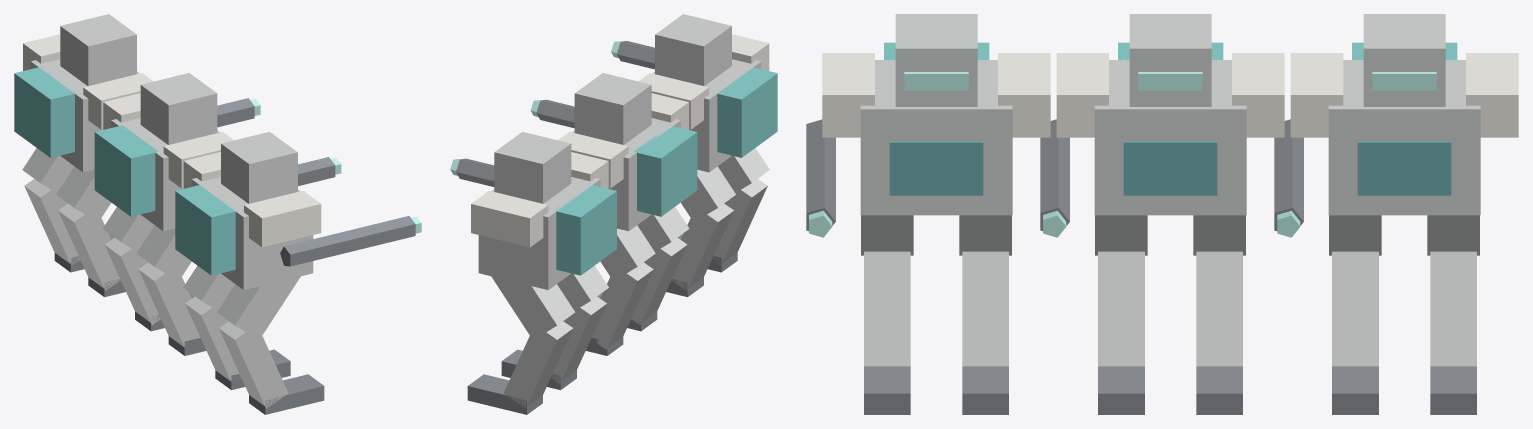
Rendered from formation_front.glb.
The picture shows the model from 3 angles, left to right: view 1: azimuth 30°, elevation 25°; view 2: azimuth 150°, elevation 25°; view 3: azimuth 270°, elevation 25°; orthographic projection. The views are drawn at different scales.
Visible parts, largest first — view 1: stellar_formation_front; view 2: stellar_formation_front; view 3: stellar_formation_front.
Boxes of the visible parts, <box> form: stellar_formation_front: <box>14,14,421,414</box>; stellar_formation_front: <box>450,14,777,414</box>; stellar_formation_front: <box>806,14,1518,414</box>.
Bounding box in the file's own units: 0.435 × 0.55 × 0.9995.
